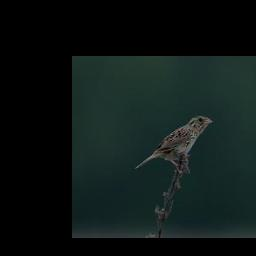Sparrow: (134, 114, 211, 174)
